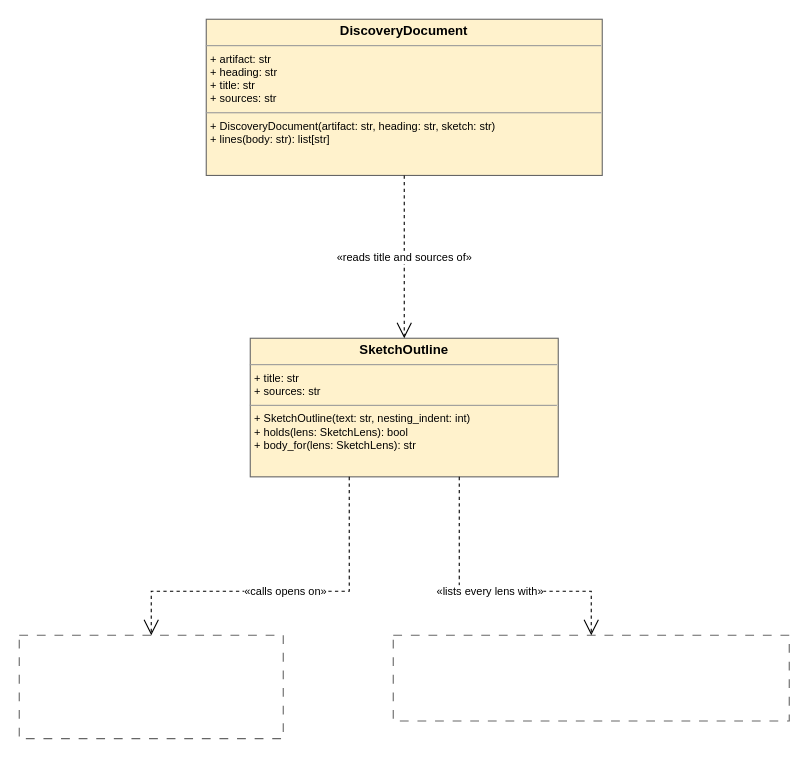
The diagram is 809 pixels wide and 758 high, and some of its shapes have lost their labels. Here are the shapes that lost their labels. From the top down, the centre of each, then its label:
At point 150,686: "«from: harness/guidance» SketchLens + titles: tuple[str, ...]".
At point 590,677: "«from: harness/guidance» PracticeCatalogue".
